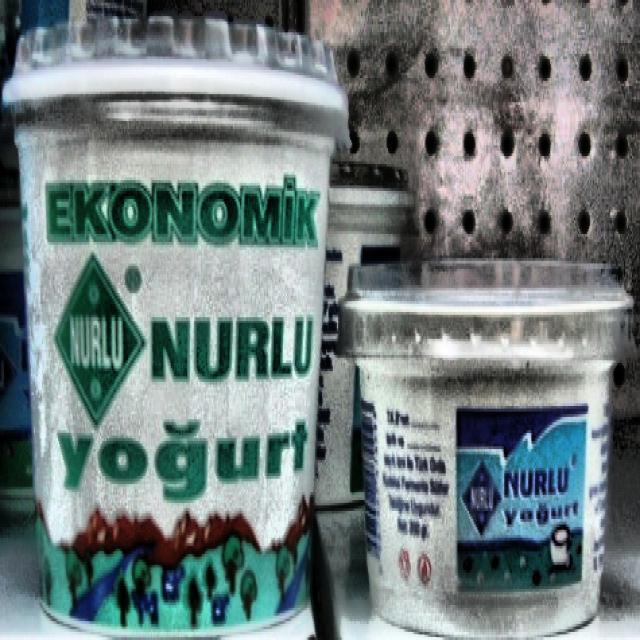plastic: (4, 20, 346, 631), (340, 259, 632, 635)
